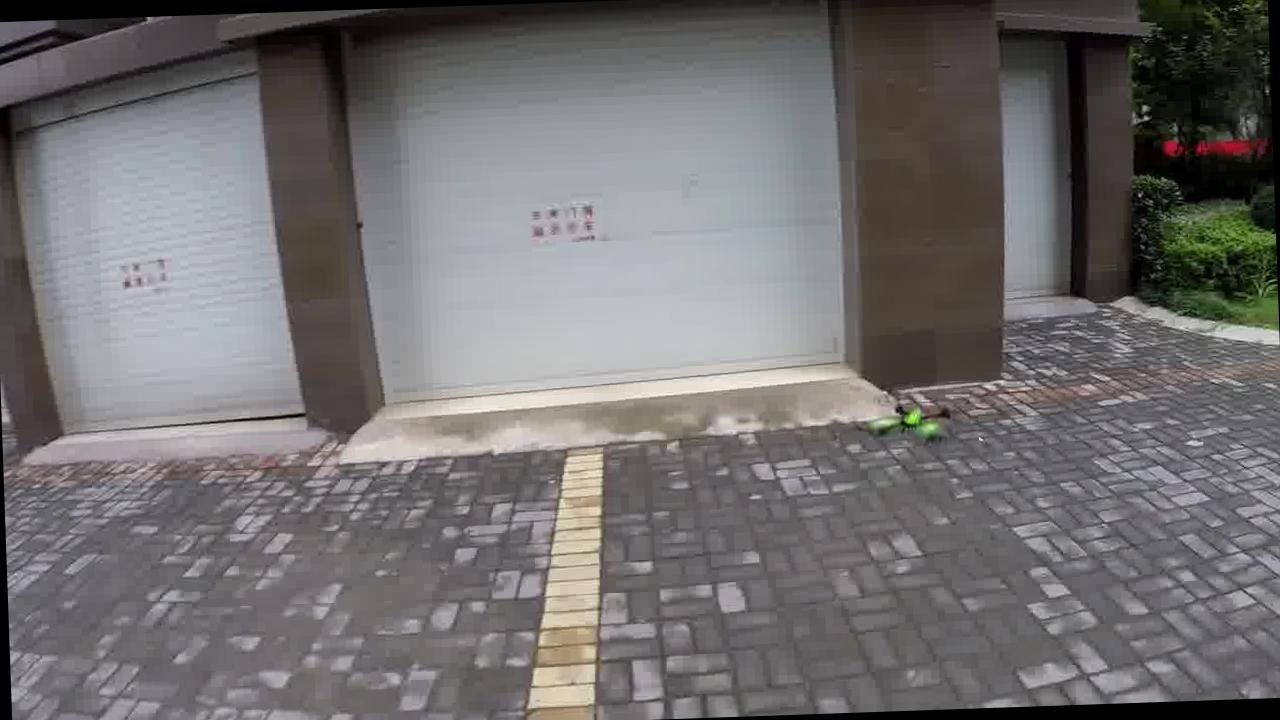drone: (851, 386, 974, 458)
